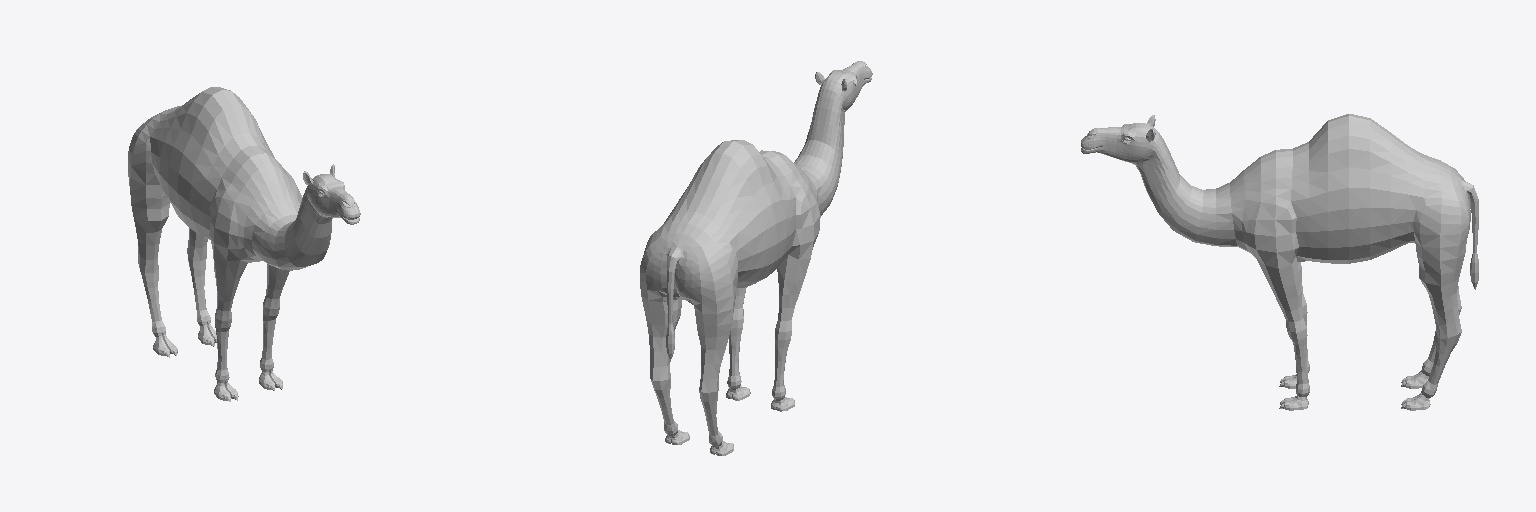
The model's file is camel_camel_triangulated.obj.
3 renders of one model, left to right at view 1: azimuth 30°, elevation 25°; view 2: azimuth 150°, elevation 25°; view 3: azimuth 270°, elevation 25°, orthographic.
Bounding box in the file's own units: 0.6649 × 1.95 × 2.52.